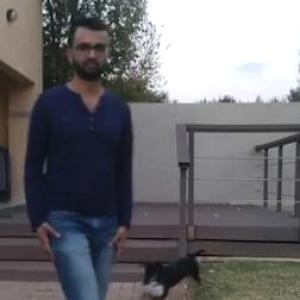follow: (43, 34, 156, 299)
